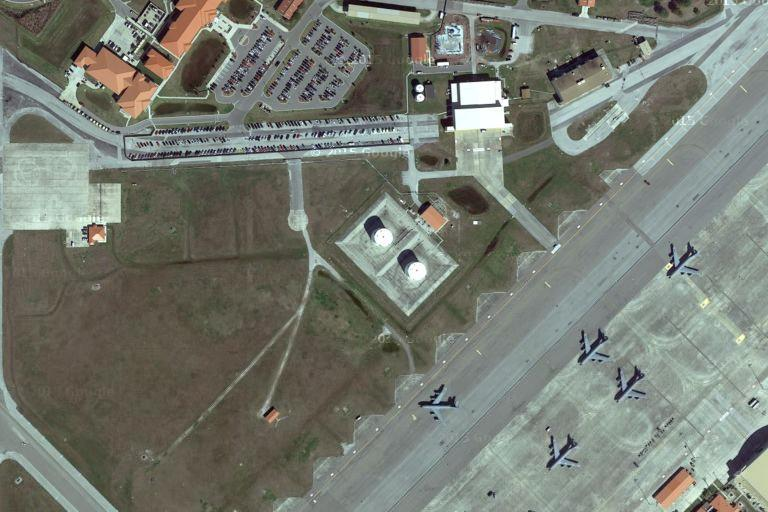KC-135: (415, 383, 463, 427), (543, 432, 587, 474), (664, 240, 706, 283), (575, 323, 614, 369), (613, 364, 652, 406)
